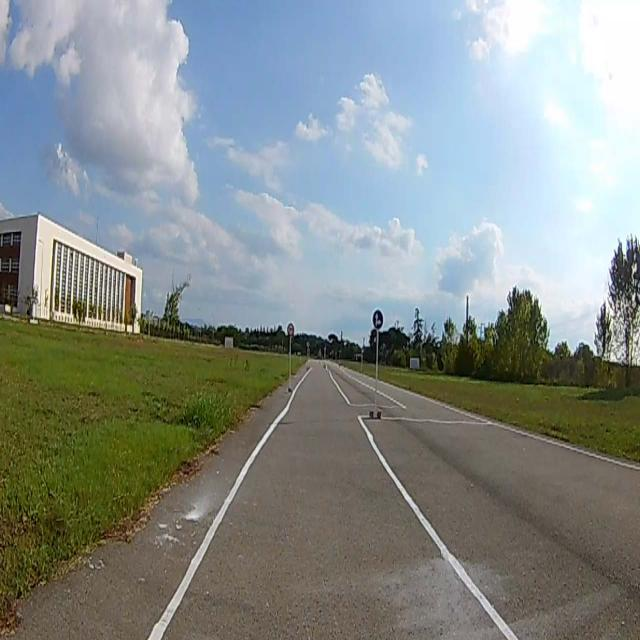ilerisag: (373, 311, 383, 329)
